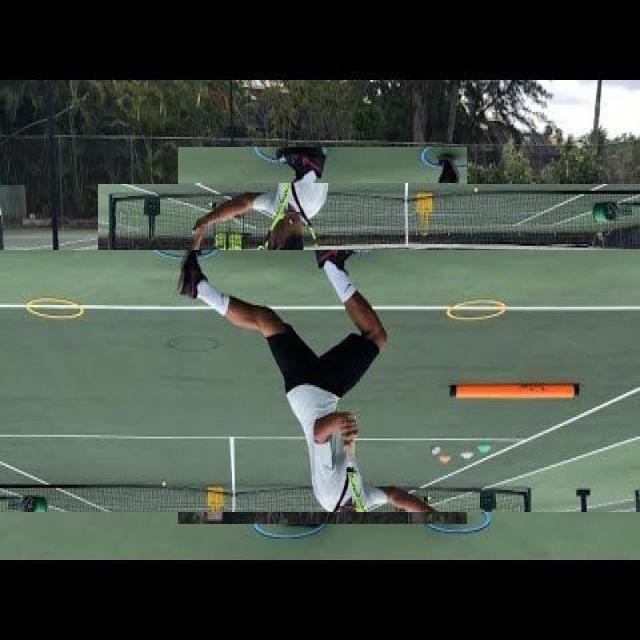court: (0, 250, 640, 512)
net: (98, 184, 640, 284)
player: (178, 148, 467, 526)
